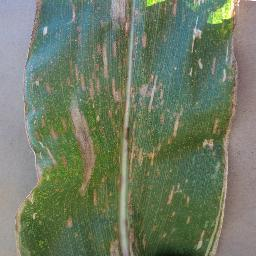Gray_Leaf_Spot: (213, 1, 256, 159), (49, 51, 138, 94), (19, 161, 126, 191), (51, 121, 130, 159), (58, 93, 141, 124), (18, 58, 48, 130), (94, 0, 130, 58), (130, 139, 171, 187), (19, 0, 55, 52), (123, 181, 161, 230), (95, 225, 155, 256), (7, 198, 39, 256), (126, 0, 154, 60), (215, 159, 237, 220), (61, 0, 88, 42), (192, 230, 235, 256), (141, 74, 165, 112), (202, 114, 223, 155), (82, 192, 119, 215), (186, 17, 206, 57), (61, 215, 93, 239), (156, 0, 174, 42), (166, 183, 197, 206), (22, 133, 51, 157), (174, 110, 188, 141), (156, 228, 173, 253), (186, 159, 203, 180), (177, 64, 206, 76), (178, 0, 201, 11), (179, 215, 195, 229), (163, 214, 186, 223), (188, 81, 204, 90), (157, 116, 169, 126), (56, 197, 68, 207), (147, 117, 155, 131), (204, 0, 209, 13)
